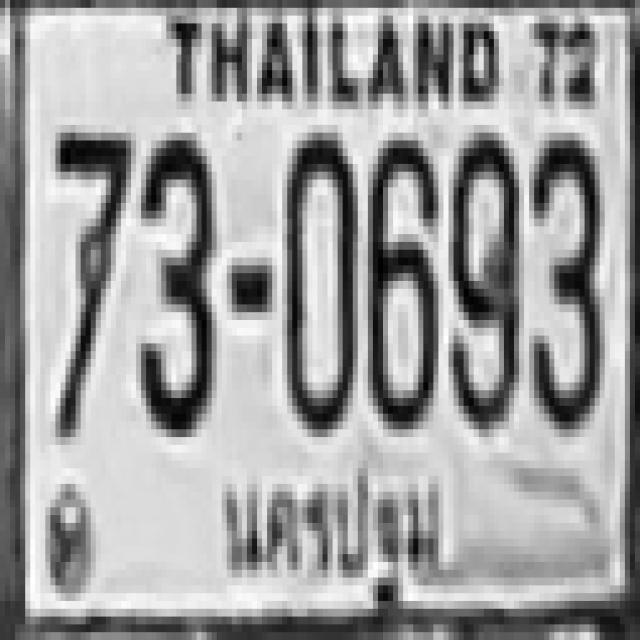0: (282, 125, 353, 429)
3: (136, 133, 212, 429), (529, 132, 600, 422)
6: (363, 132, 433, 422)
7: (50, 129, 126, 433)
9: (449, 125, 514, 421)
NakhonPathom: (213, 441, 454, 625)
